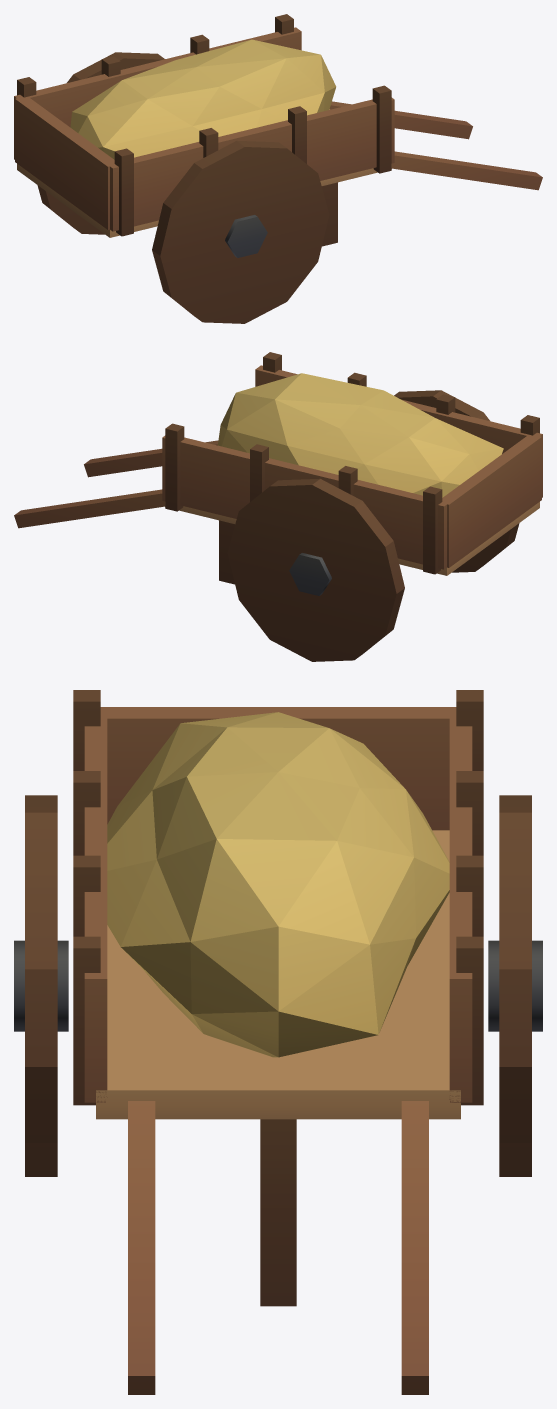
The model's file is cart.glb.
3 views of the same model, one above another, from view 1: azimuth 30°, elevation 25°; view 2: azimuth 150°, elevation 25°; view 3: azimuth 270°, elevation 25° (orthographic). The views are drawn at different scales.
Parts seen in each view (by area): view 1: cart; view 2: cart; view 3: cart.
Part boxes in pixels (left/top/right/bottom): cart: left=14, top=14, right=542, bottom=323; cart: left=14, top=352, right=542, bottom=661; cart: left=14, top=690, right=542, bottom=1394.
Bounding box in the file's own units: 11 × 4.93 × 5.8.
1 material, 1 textured.
